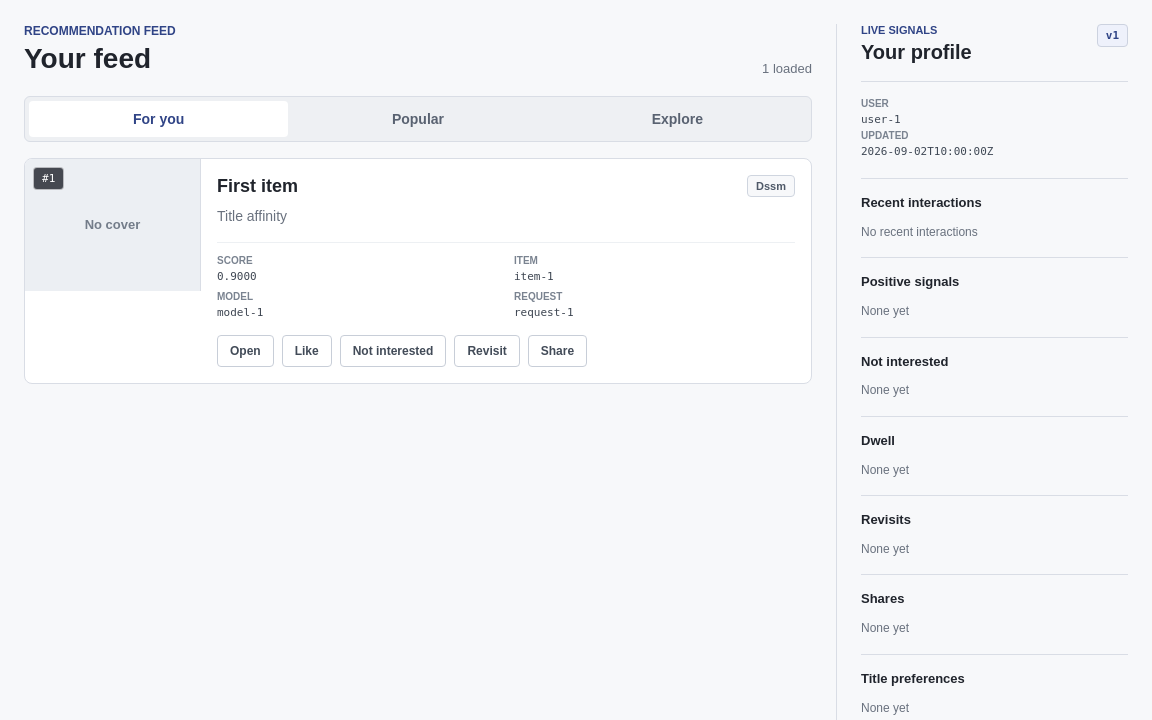
Test: FeedExperience behavior refresh › keeps a rejected result visible without refreshing profile or feed
Click the button "Not interested" at (393, 351), box [340, 335, 446, 367]
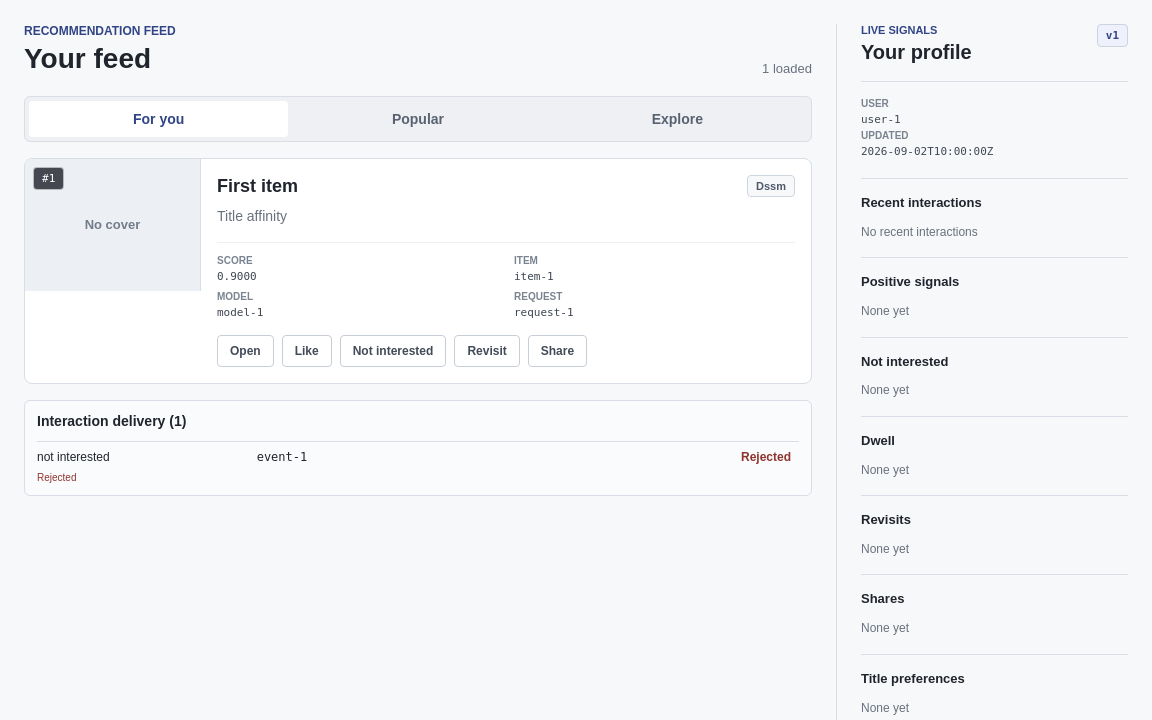
Result: the text "rejected" is shown at [741, 450, 791, 464]
